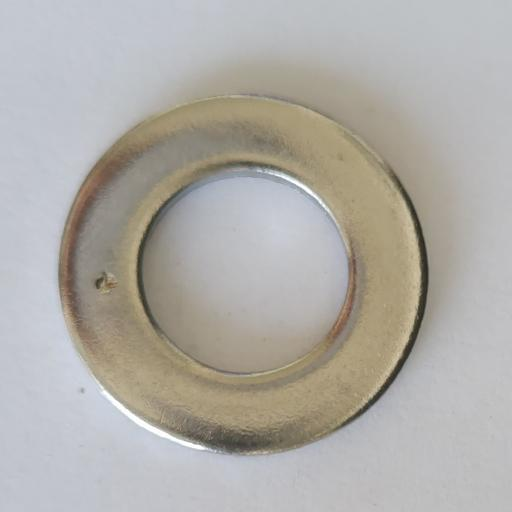circular_cavity: (94, 268, 120, 295)
